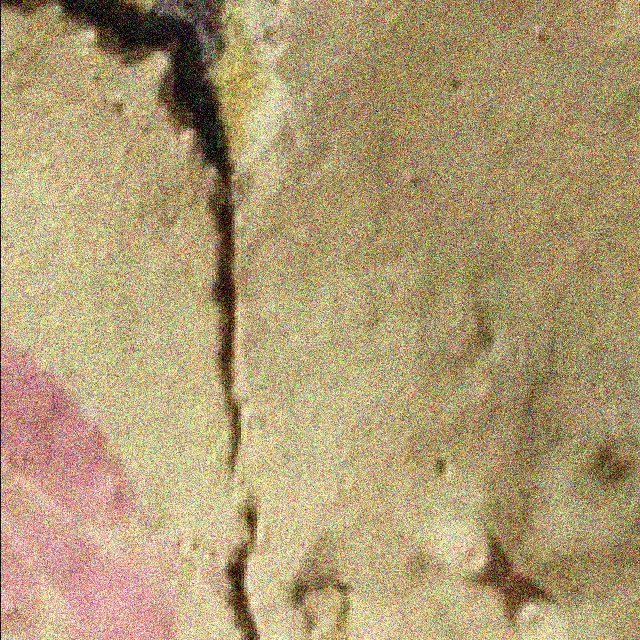SurfaceCrack: (62, 0, 300, 638)
